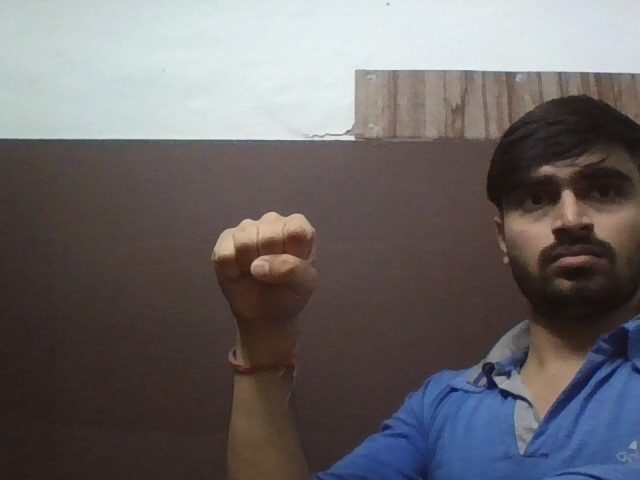S: (214, 207, 339, 333)
